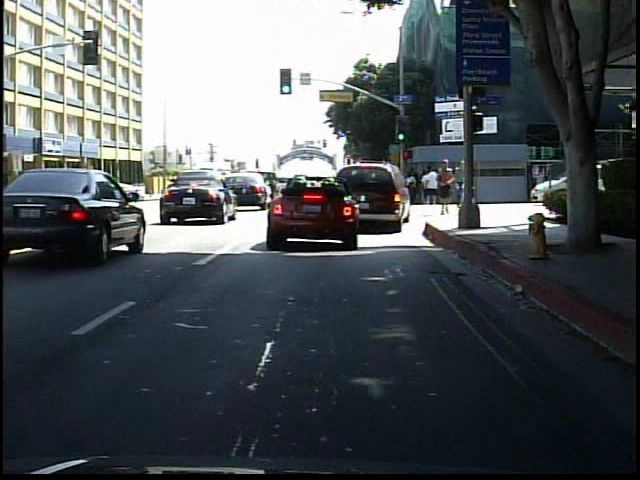person: (433, 157, 454, 217), (457, 173, 479, 211), (106, 176, 124, 204)
